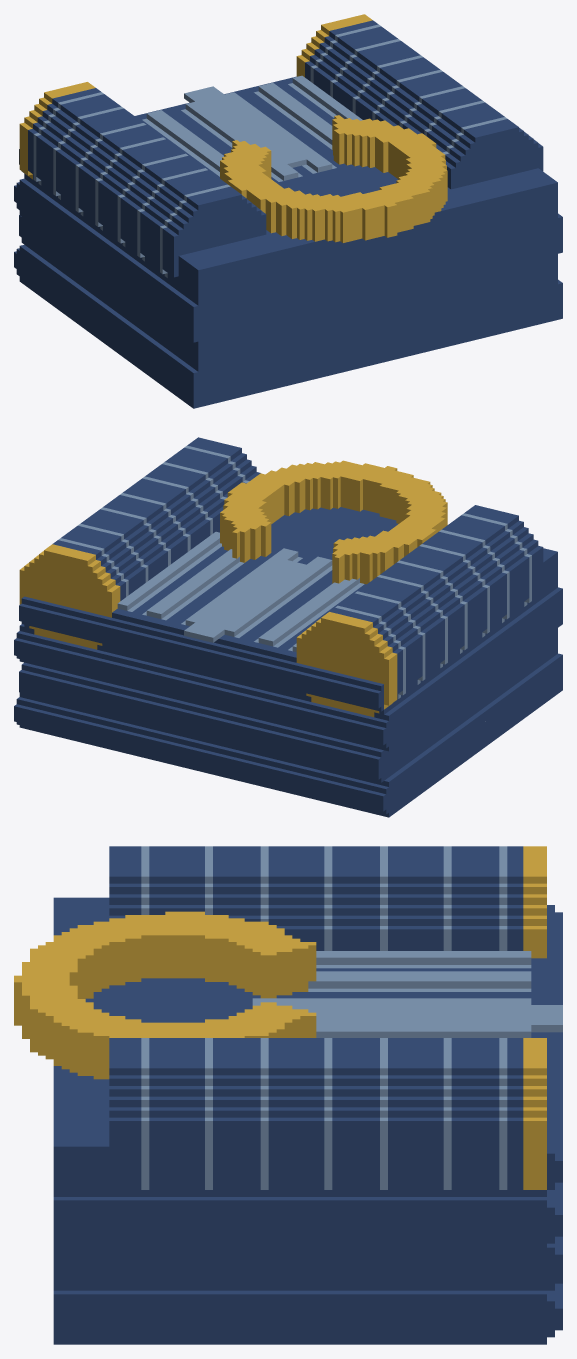
The model's file is bite_suit.glb.
3 views of the same model, one above another, from view 1: azimuth 30°, elevation 25°; view 2: azimuth 150°, elevation 25°; view 3: azimuth 270°, elevation 25° (orthographic). The views are drawn at different scales.
Parts seen in each view (by area): view 1: bite_suit:compound; view 2: bite_suit:compound; view 3: bite_suit:compound.
Part boxes in pixels (x1,y1,x2,y2): bite_suit:compound: (14,14,562,408); bite_suit:compound: (14,437,562,817); bite_suit:compound: (14,846,562,1344).
Bounding box in the file's own units: 0.456 × 0.216 × 0.414.
